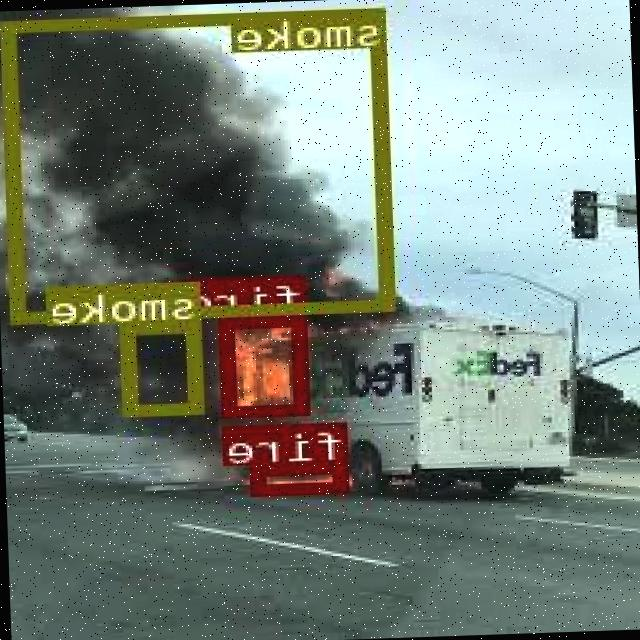fire: (221, 314, 310, 416), (253, 459, 352, 492)
smoke: (4, 6, 398, 320), (122, 318, 205, 414)
